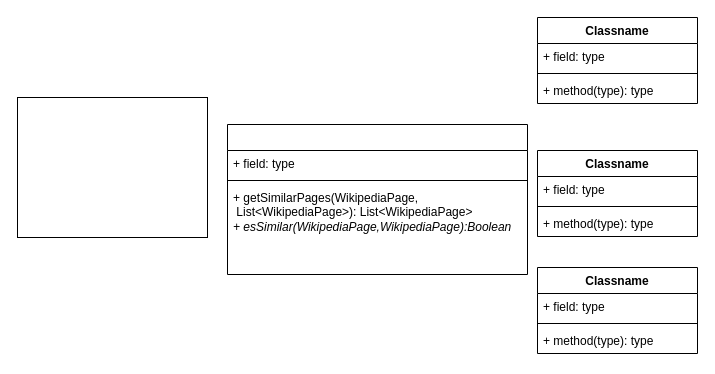
This 715x374 diagram has some shape labels left out. The shapes that lost their labels are listed below. From the top down, each one's box as (x1, y1, x2, y2) in pixels, then its label:
(16, 96, 208, 238): <<Interface>> WikipediaPage + method1(Type): Type + method2(Type, Type): Type
(226, 124, 528, 274): Filtro
